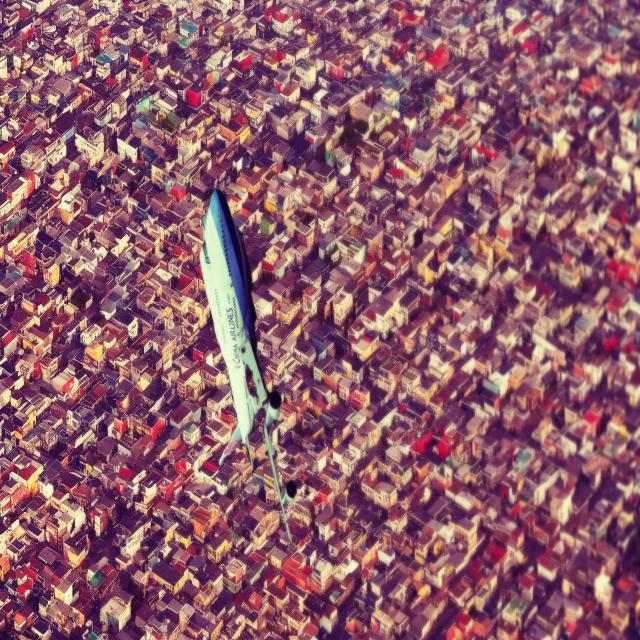airplane: (198, 187, 293, 545)
